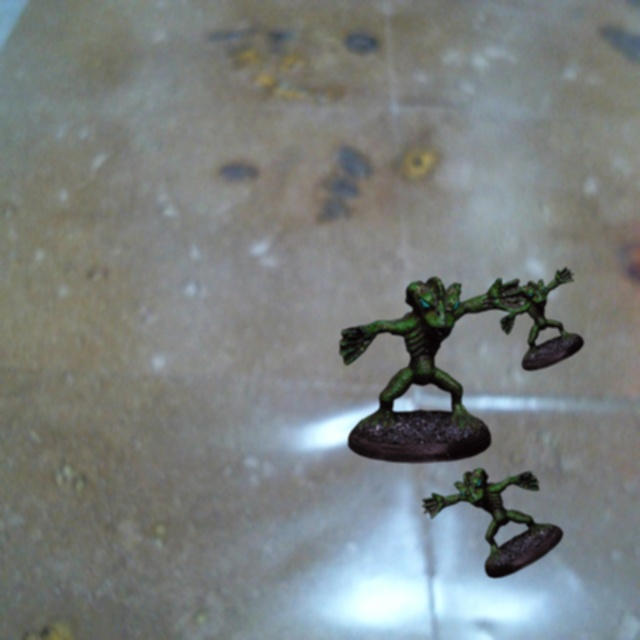pieza_juego: (339, 277, 528, 463), (422, 468, 562, 577), (499, 267, 583, 370)
